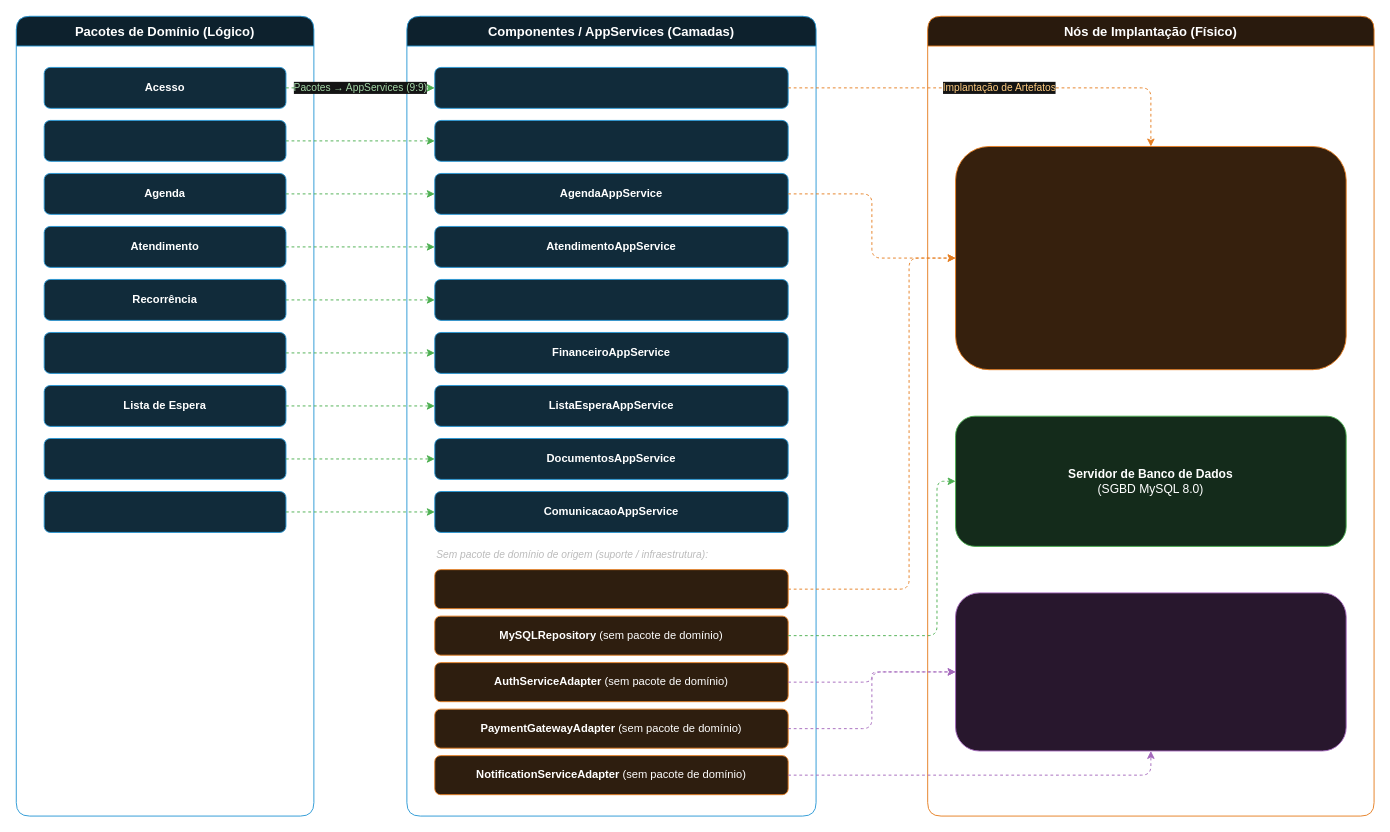
This 1390x832 diagram has some shape labels left out. Here are the shapes that lost their labels. From the top down, the box of each, then its label:
(434, 66, 788, 108): AcessoAppService
(43, 120, 286, 161): Pessoas
(434, 120, 788, 161): PessoasAppService
(955, 146, 1346, 370): Servidor de Aplicação (Cloud Container / Node.js)
(434, 279, 788, 320): RecorrenciaAppService
(43, 332, 286, 373): Financeiro
(43, 438, 286, 479): Documentos
(43, 491, 286, 532): Comunicação
(434, 569, 788, 609): Agendador (sem pacote de domínio)
(955, 592, 1346, 751): Provedores SaaS (OAuth 2.0, Payment Gateway, E-mail / SendGrid)
